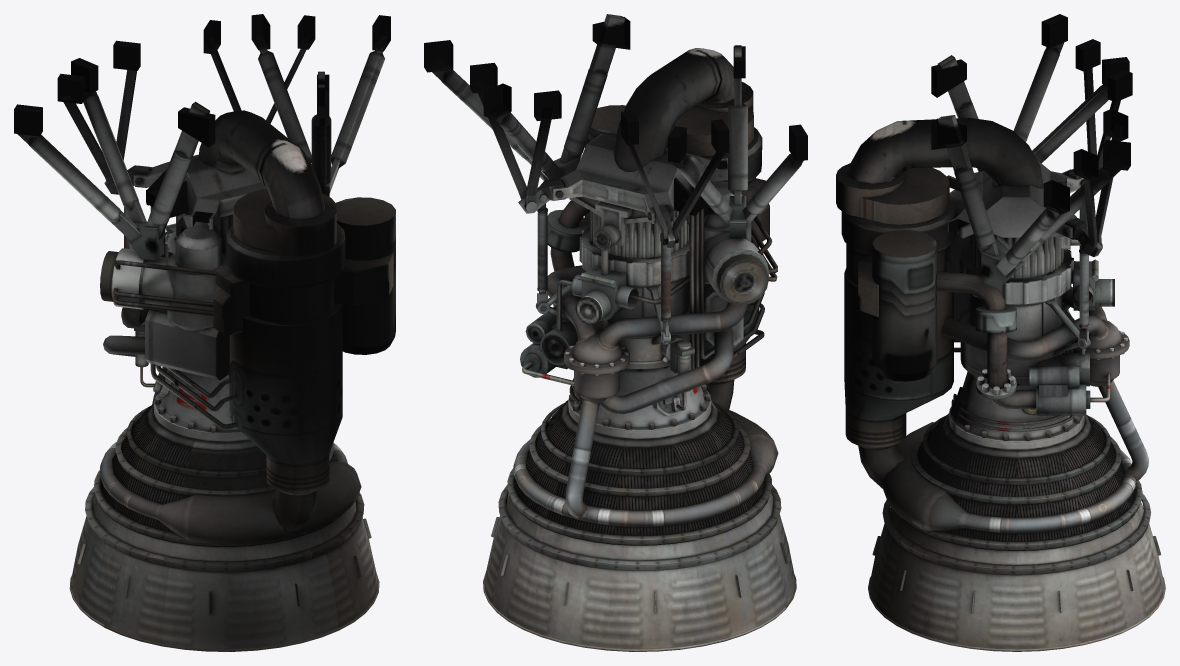
Rendered from Rocket_Enginee.fbx.
The picture shows the model from 3 angles, left to right: view 1: azimuth 30°, elevation 25°; view 2: azimuth 150°, elevation 25°; view 3: azimuth 270°, elevation 25°; orthographic projection. The views are drawn at different scales.
Parts seen in each view (by area): view 1: Rocket_Engine; view 2: Rocket_Engine; view 3: Rocket_Engine.
Part boxes in pixels (x1,y1,x2,y2): Rocket_Engine: (14,14,395,651); Rocket_Engine: (424,14,807,651); Rocket_Engine: (836,14,1165,651).
Bounding box in the file's own units: 211 × 279 × 166.
Materials: 1 (1 with a texture image).
